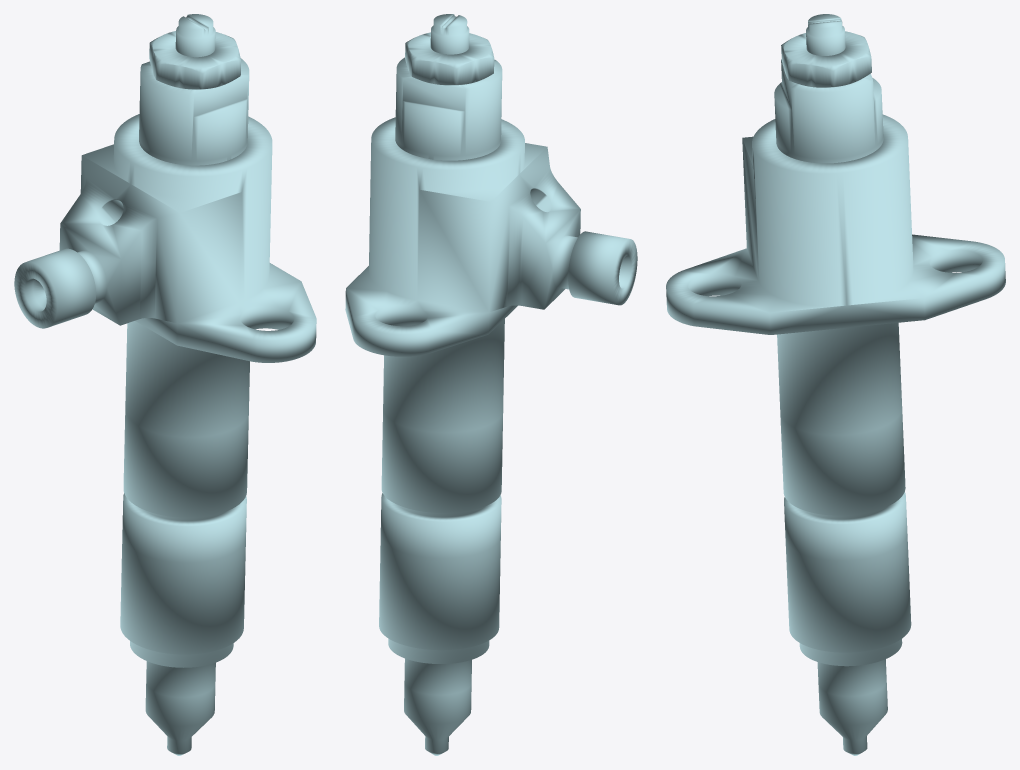
Rendered from penyouzui.glb.
The picture shows the model from 3 angles, left to right: view 1: azimuth 30°, elevation 25°; view 2: azimuth 150°, elevation 25°; view 3: azimuth 270°, elevation 25°; orthographic projection. The views are drawn at different scales.
Visible parts, largest first — view 1: Fuel injector; view 2: Fuel injector; view 3: Fuel injector.
Boxes of the visible parts, x1,y1,x2,y2 form: Fuel injector: (14,14,316,755); Fuel injector: (345,14,637,755); Fuel injector: (666,14,1005,755).
Bounding box in the file's own units: 8.79 × 24.85 × 10.42.
